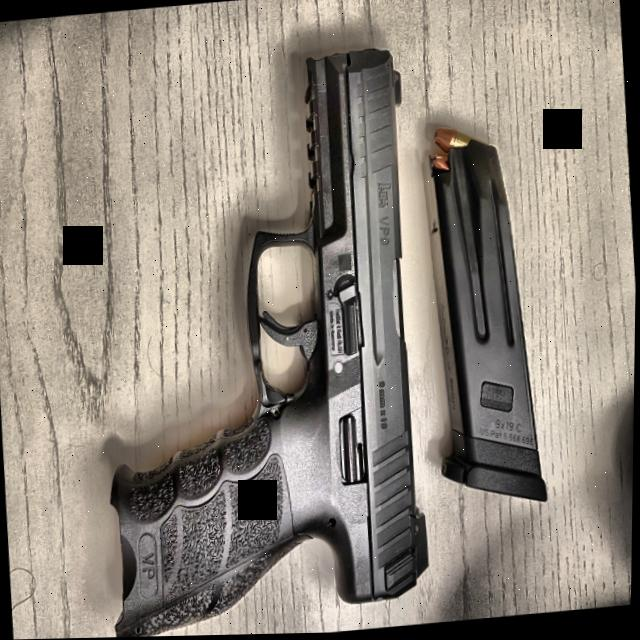HKVP9: (76, 44, 441, 639)
